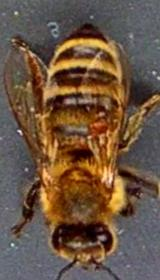varroa_mite: (80, 108, 116, 141)
